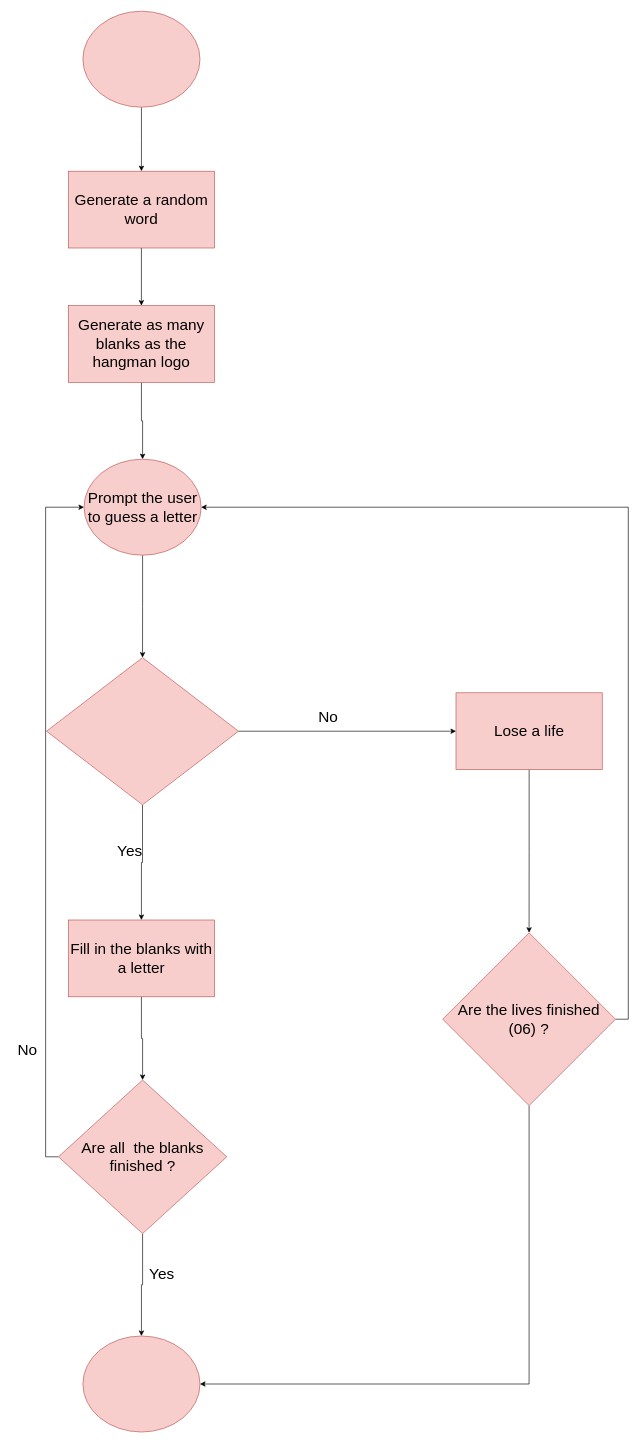
The diagram is 644 pixels wide and 1443 high, and some of its shapes have lost their labels. Each missing label, with the centre of its shape:
Game End (Win / Lose): the point at 141,1383
Is the guessed word correct ?: the point at 142,731
Start: the point at 141,59
